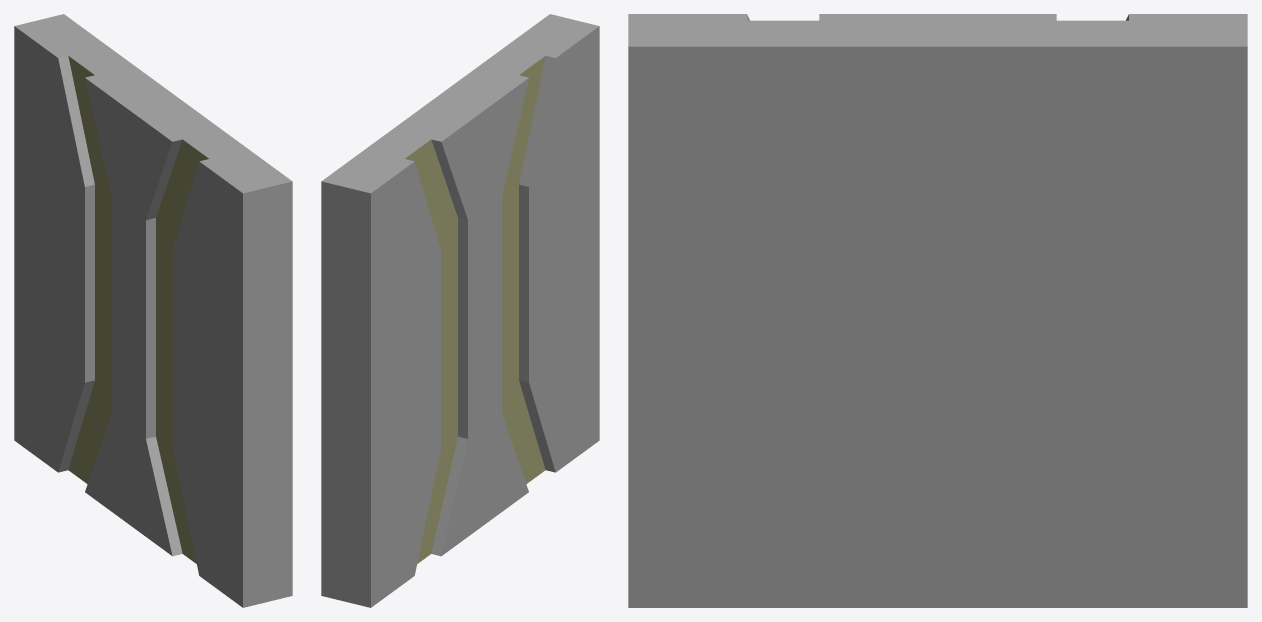
The model's file is Cm_X_Wall_8x8.fbx.
3 renders of one model, left to right at view 1: azimuth 30°, elevation 25°; view 2: azimuth 150°, elevation 25°; view 3: azimuth 270°, elevation 25°, orthographic. The views are drawn at different scales.
Visible parts, largest first — view 1: Cm_X_Wall_8x10; view 2: Cm_X_Wall_8x10; view 3: Cm_X_Wall_8x10.
Part boxes in pixels (<box>): Cm_X_Wall_8x10: <box>14,14,292,607</box>; Cm_X_Wall_8x10: <box>321,14,599,607</box>; Cm_X_Wall_8x10: <box>628,14,1247,607</box>.
Bounding box in the file's own units: 100 × 800 × 800.
